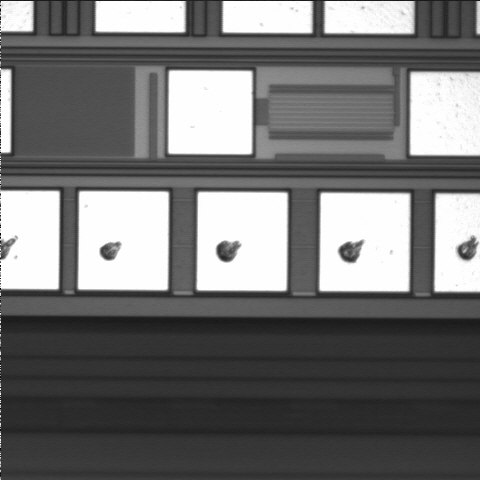pad: (78, 191, 169, 290), (197, 192, 287, 291), (320, 193, 410, 291), (168, 71, 252, 154)
